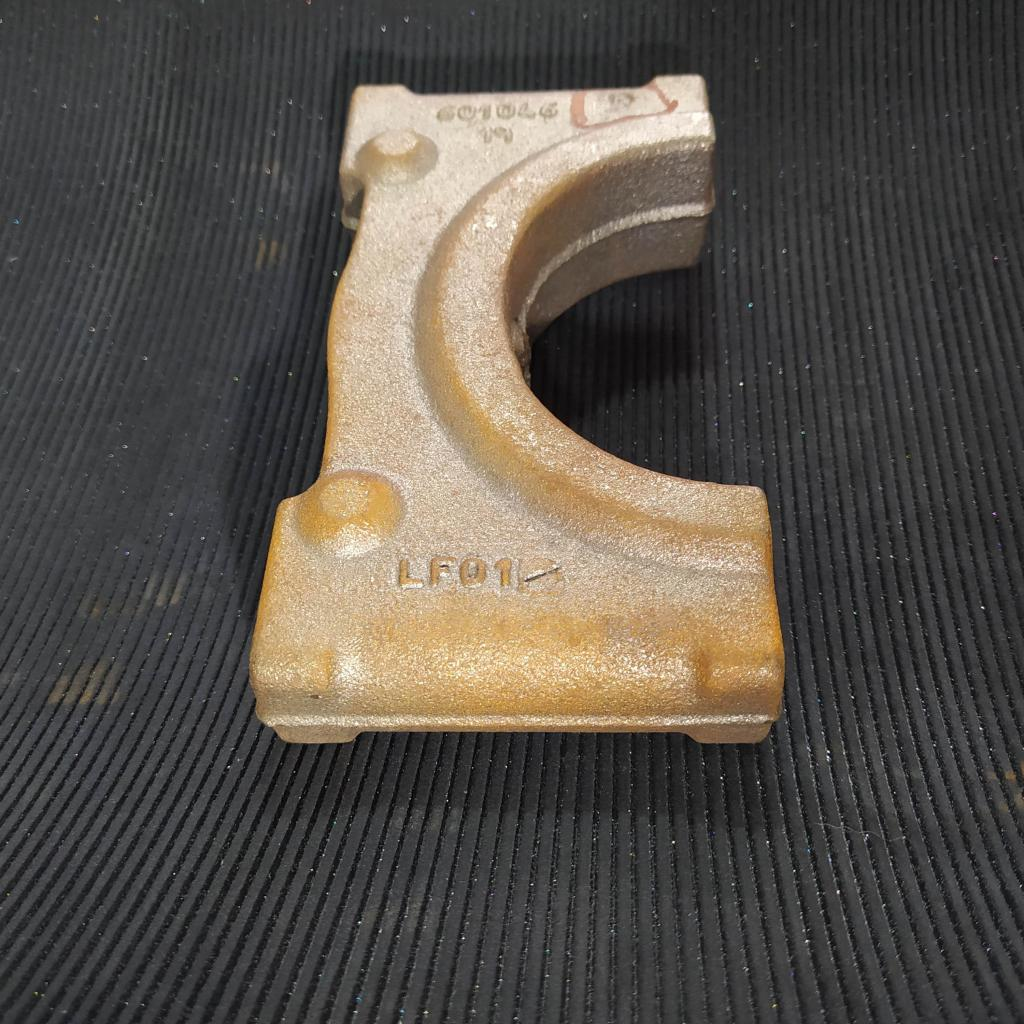buraco: (607, 91, 636, 113)
